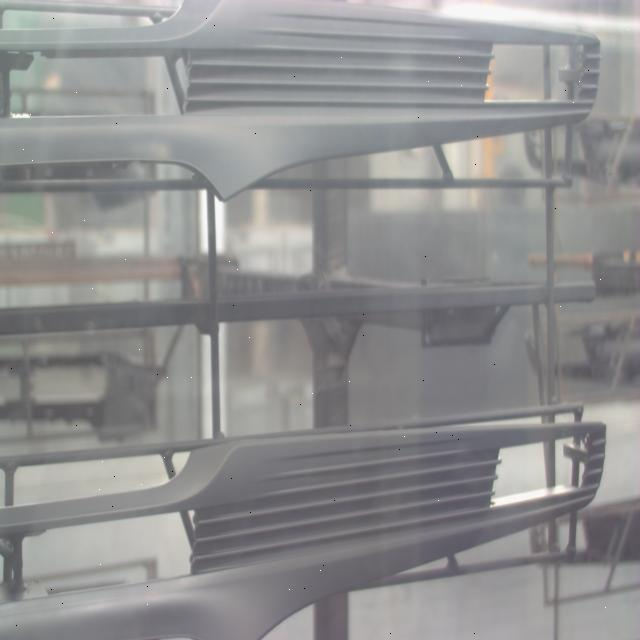Primered: (0, 394, 612, 639), (0, 0, 602, 209)
